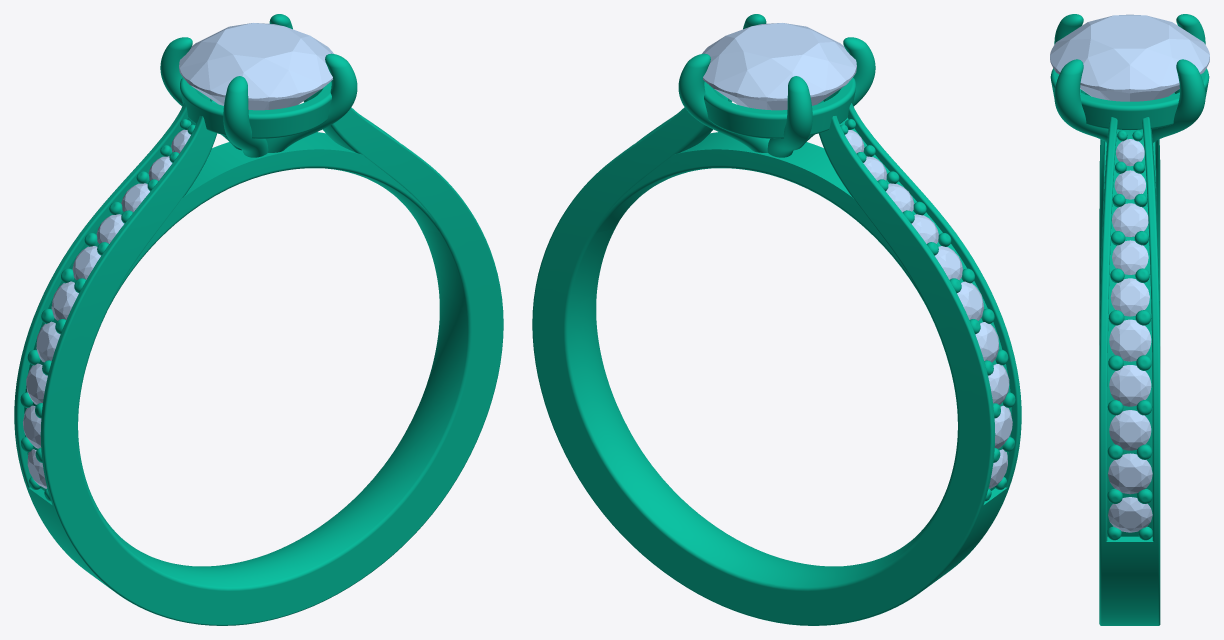
The picture shows the model from 3 angles, left to right: view 1: azimuth 30°, elevation 25°; view 2: azimuth 150°, elevation 25°; view 3: azimuth 270°, elevation 25°; orthographic projection.
Visible parts, largest first — view 1: engagement ring(front).3dm, Diamond_Round (×3), Bezel; view 2: engagement ring(front).3dm, Diamond_Round (×3), Bezel; view 3: engagement ring(front).3dm, Diamond_Round (×11), Bezel.
Part boxes in pixels (x1=…): engagement ring(front).3dm: x1=14, y1=14, x2=503, y2=625; Diamond_Round (×3): x1=36, y1=23, x2=333, y2=362; Bezel: x1=180, y1=77, x2=331, y2=138; engagement ring(front).3dm: x1=532, y1=14, x2=1021, y2=625; Diamond_Round (×3): x1=702, y1=23, x2=999, y2=362; Bezel: x1=704, y1=77, x2=855, y2=138; engagement ring(front).3dm: x1=1054, y1=14, x2=1205, y2=625; Diamond_Round (×11): x1=1050, y1=14, x2=1209, y2=532; Bezel: x1=1050, y1=68, x2=1209, y2=129.
Bounding box in the file's own units: 2.54 × 3 × 0.7626.
